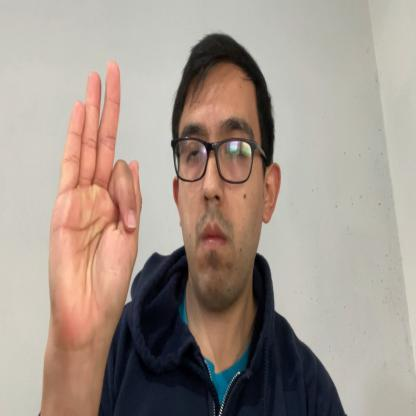F: (48, 59, 142, 344)
